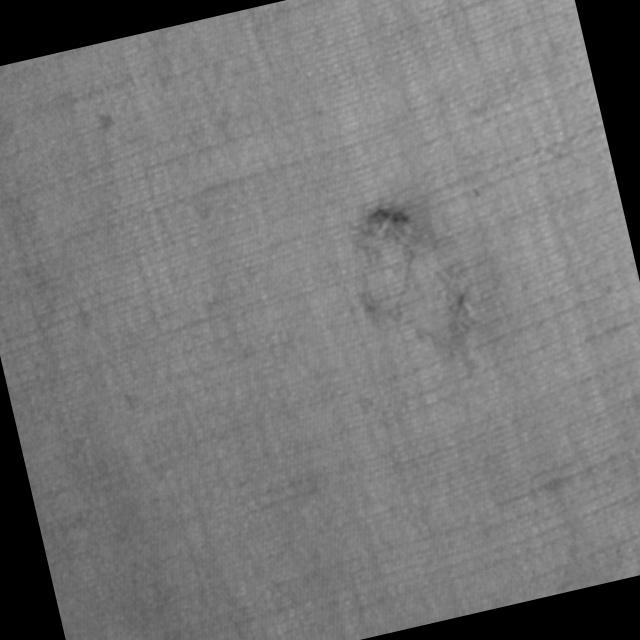objects: (334, 185, 486, 362)
